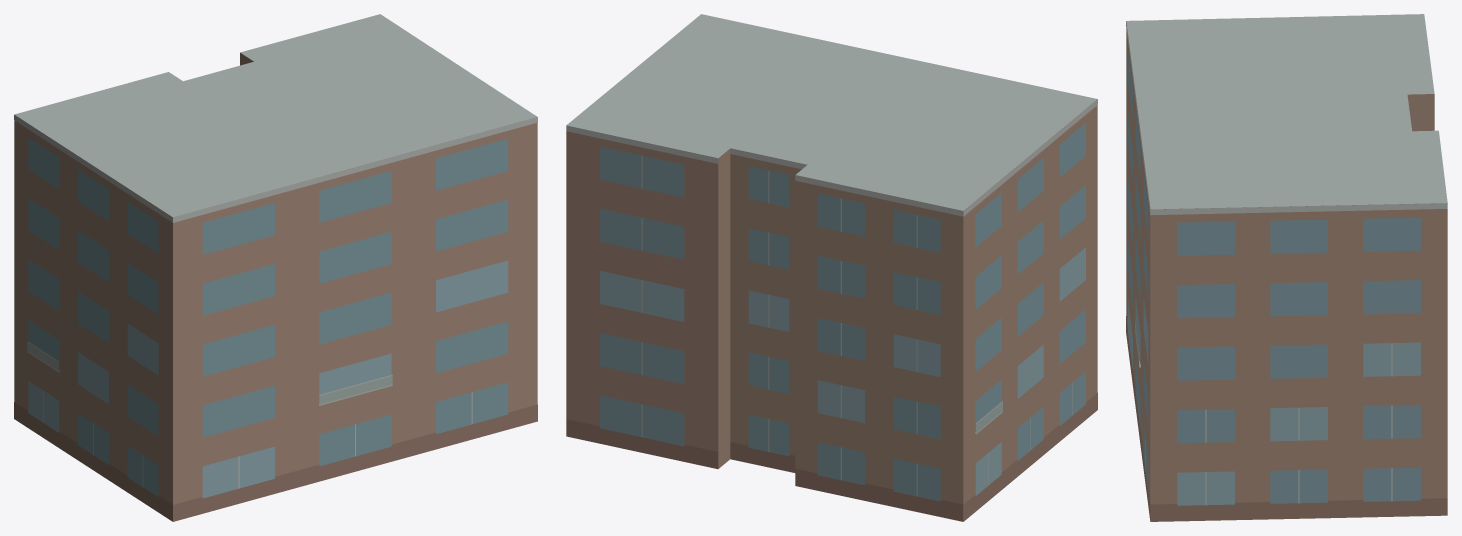
The model's file is survey-upis-32747104.glb.
The picture shows the model from 3 angles, left to right: view 1: azimuth 30°, elevation 25°; view 2: azimuth 150°, elevation 25°; view 3: azimuth 270°, elevation 25°; orthographic projection. The views are drawn at different scales.
Visible parts, largest first — view 1: survey-upis-32747104.tmp; view 2: survey-upis-32747104.tmp; view 3: survey-upis-32747104.tmp.
Part boxes in pixels (x1,y1,x2,y2): survey-upis-32747104.tmp: (14,14,537,521); survey-upis-32747104.tmp: (566,14,1097,521); survey-upis-32747104.tmp: (1126,14,1447,521).
Bounding box in the file's own units: 17.71 × 13.2 × 12.32.
